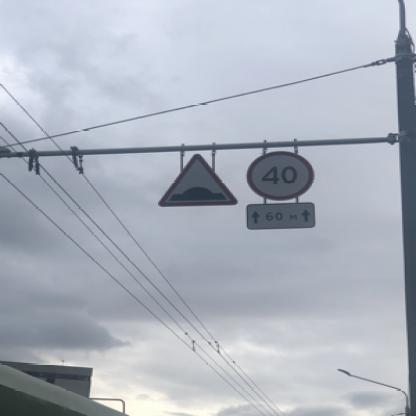speedlimit: (243, 150, 312, 200)
